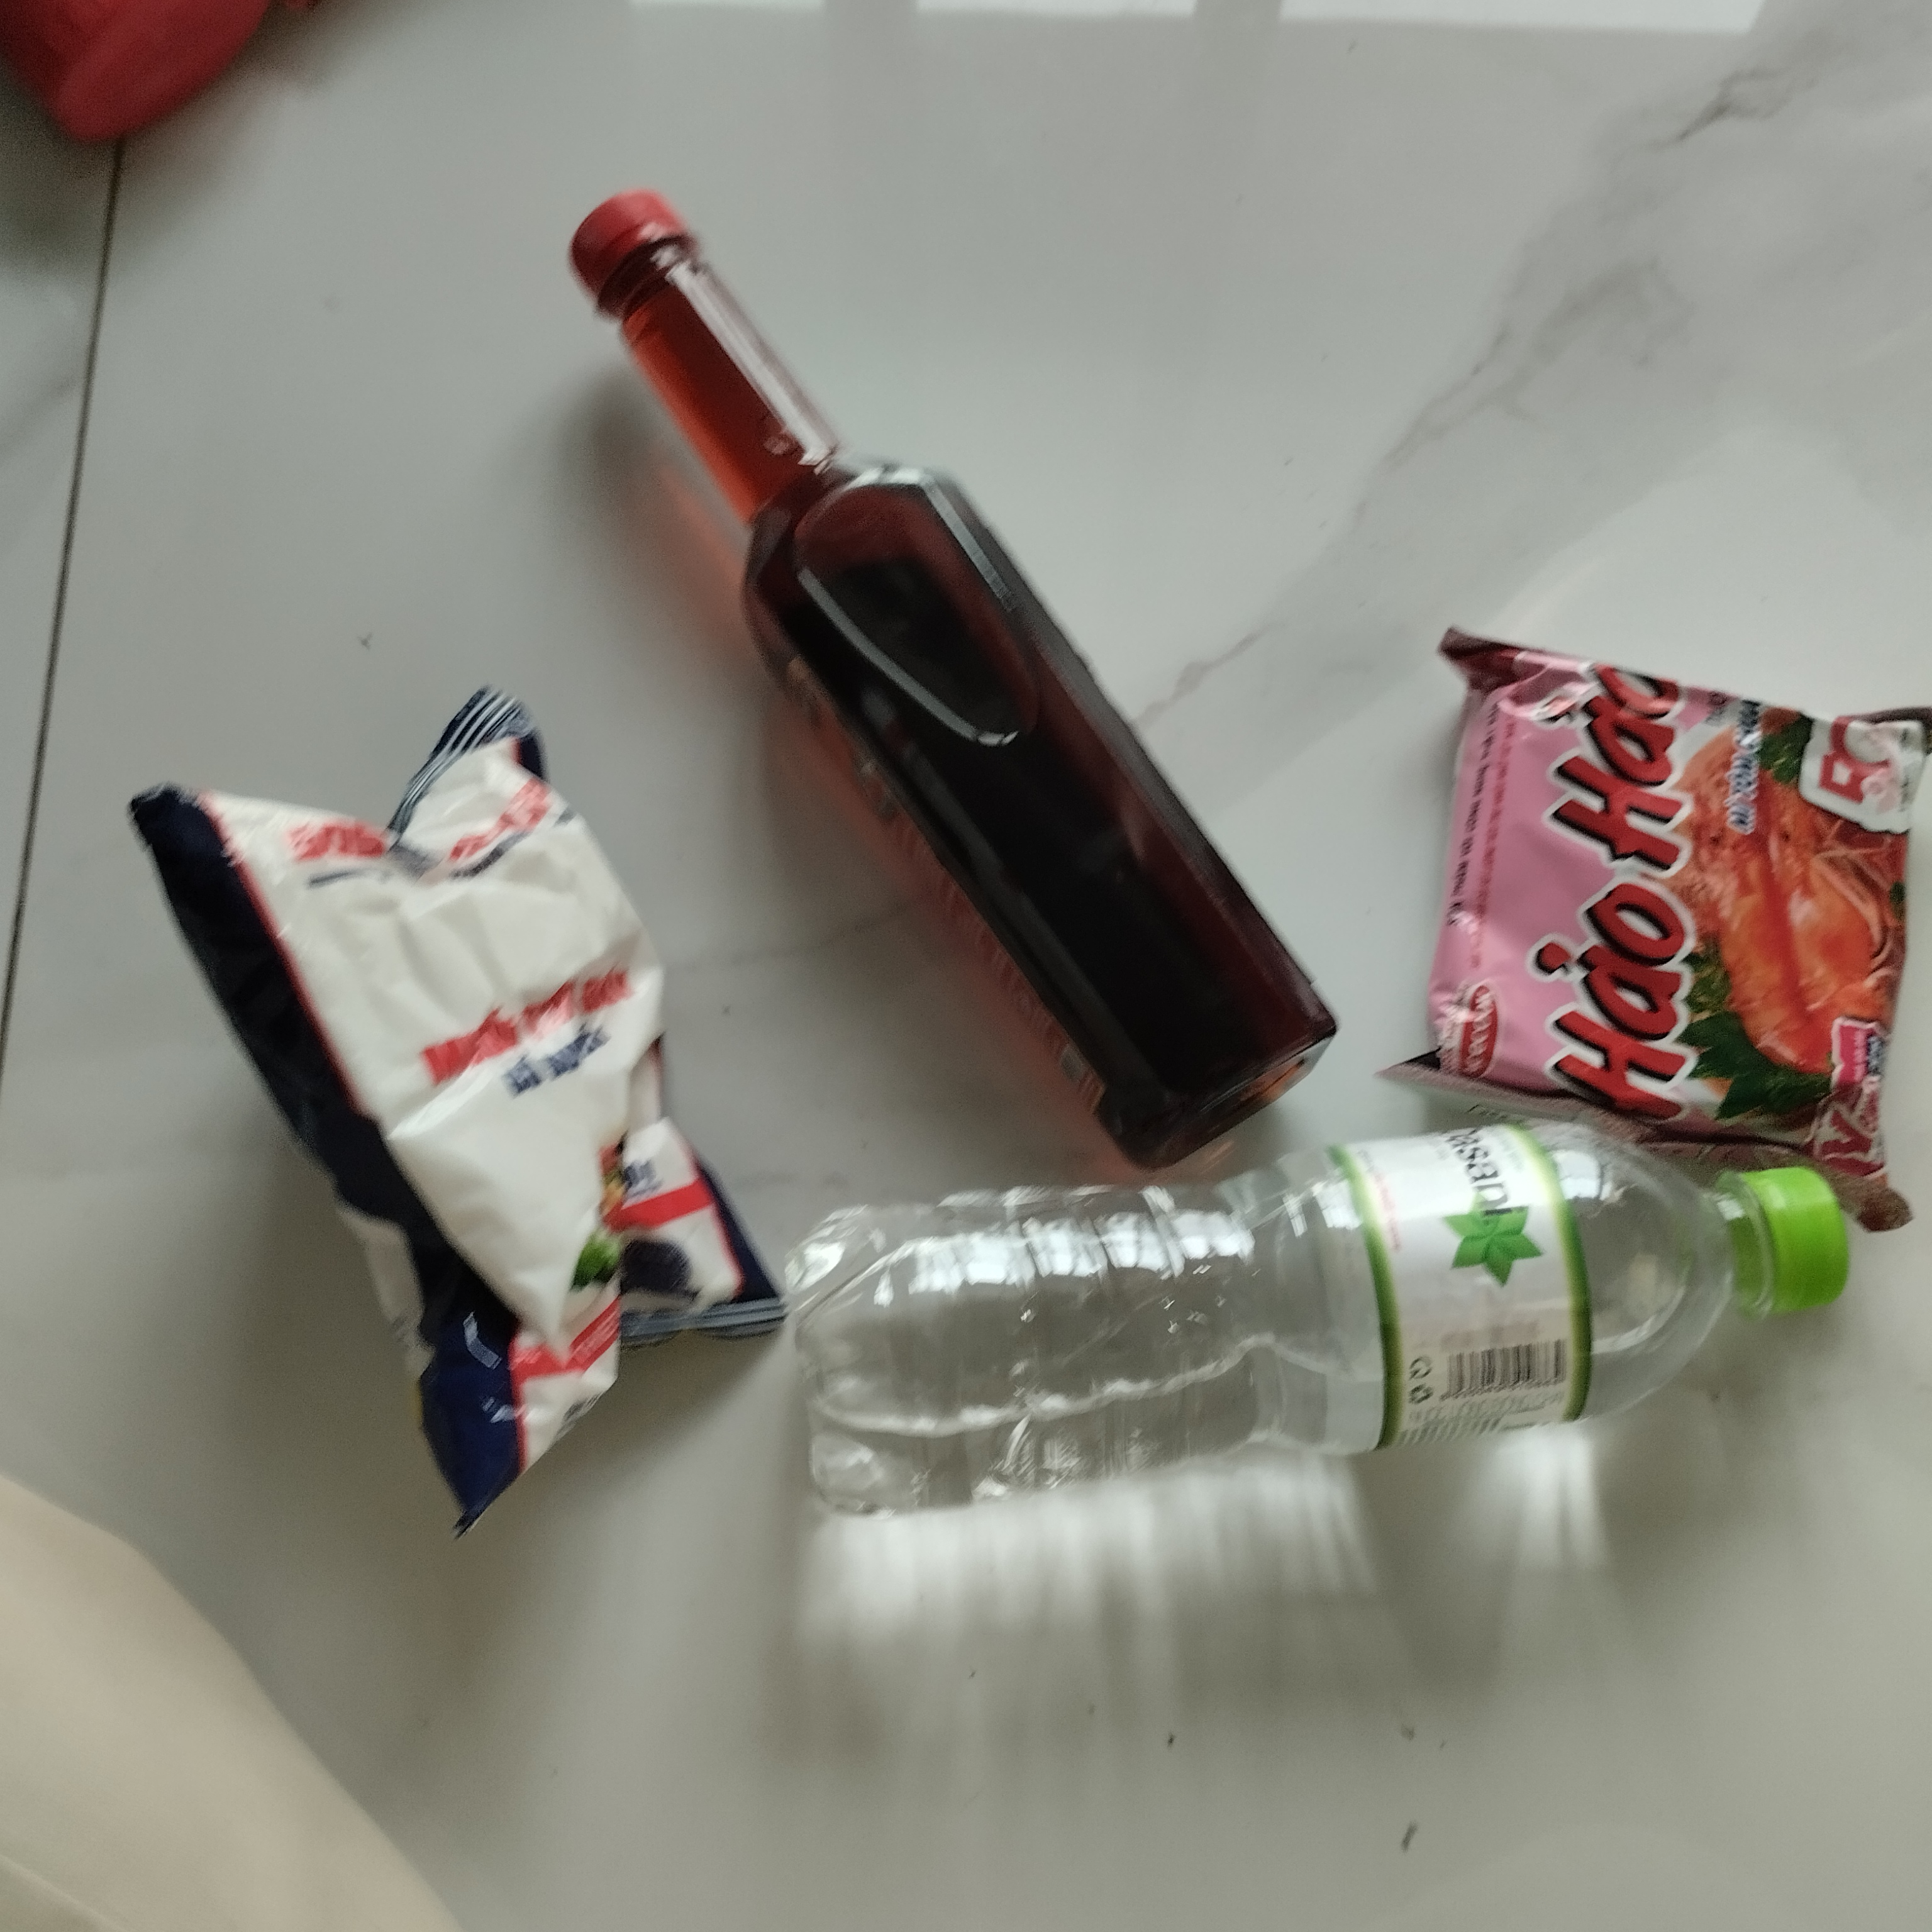Dasani: (764, 1106, 1849, 1598)
Haohao: (1382, 607, 1932, 1231)
Namngu: (552, 184, 1334, 1184)
Salt: (124, 685, 793, 1541)
